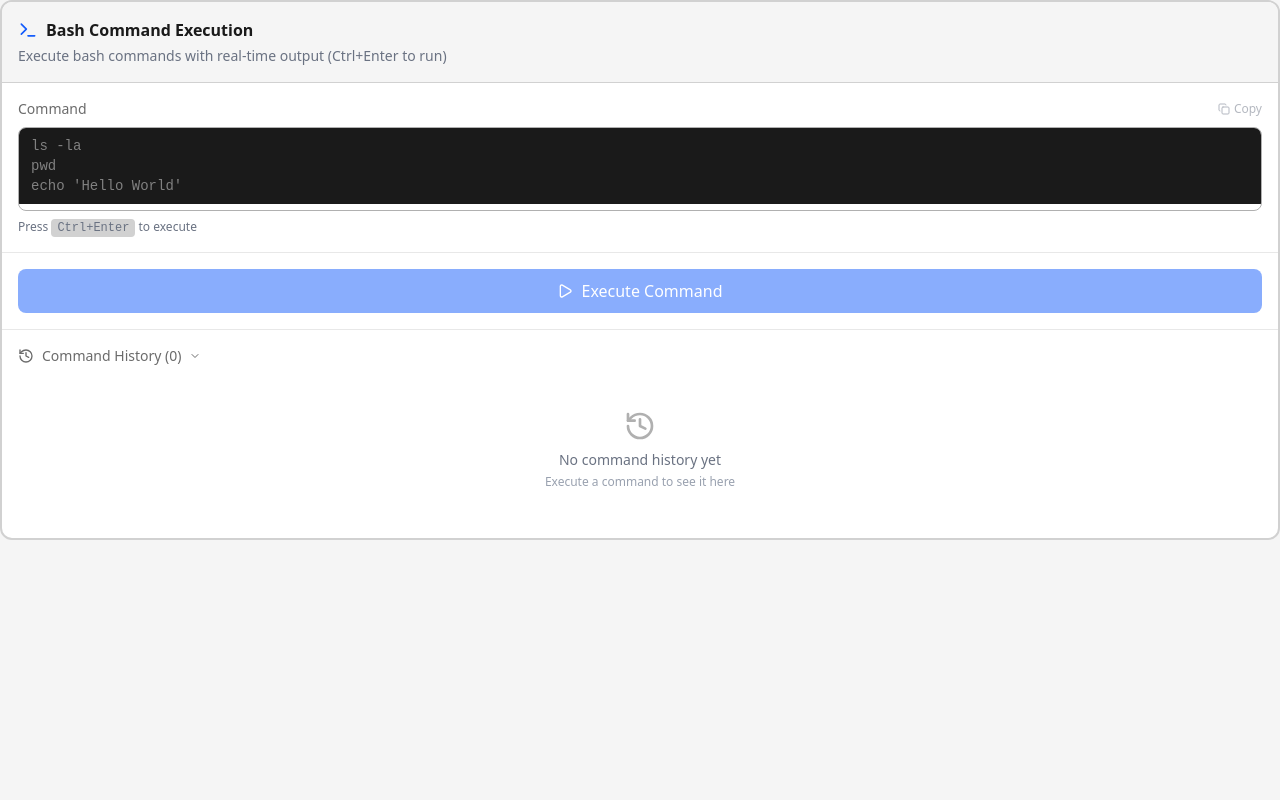
Scenario: BashToolExecutor › Command Execution › should display stdout output
In the text box with test id "bash-command-input": (640,166) [19,128,1261,204], type "echo test"
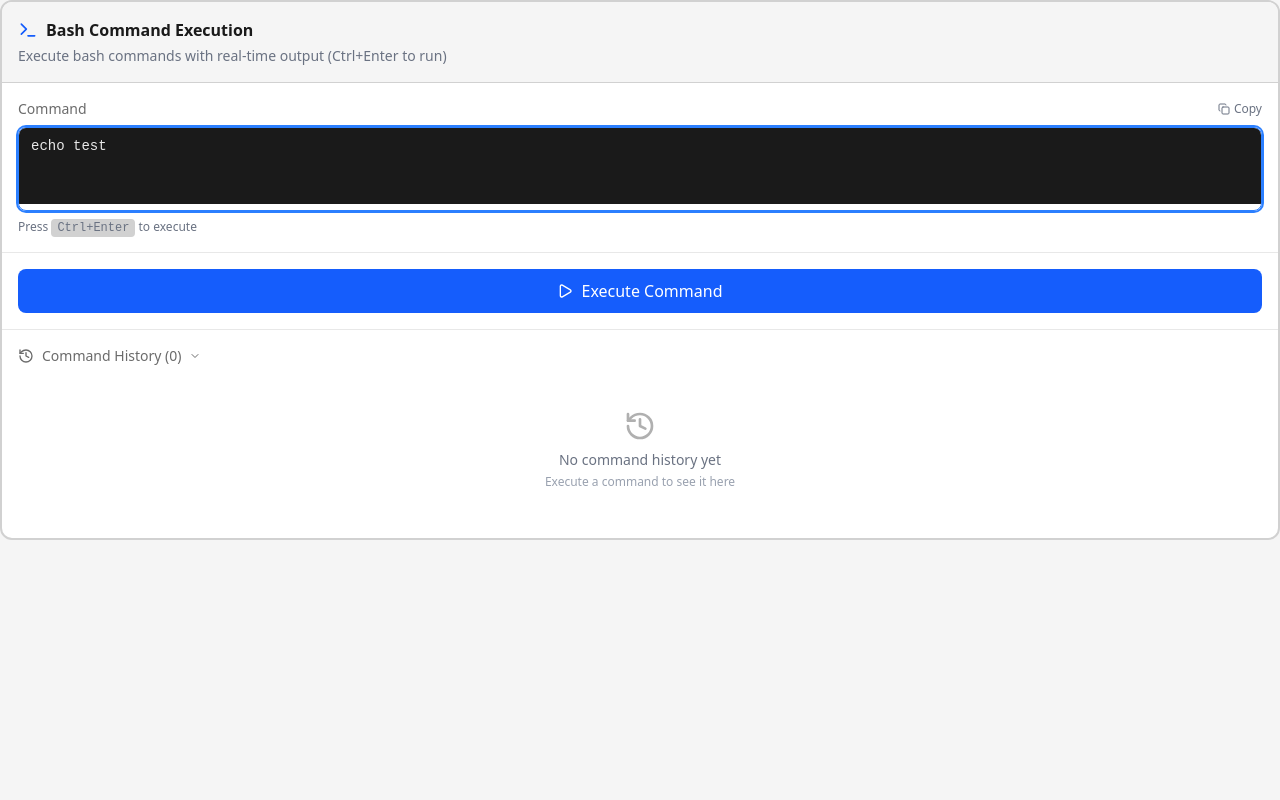
Click the button with test id "execute-bash-button": (640,291) [18,269,1262,313]
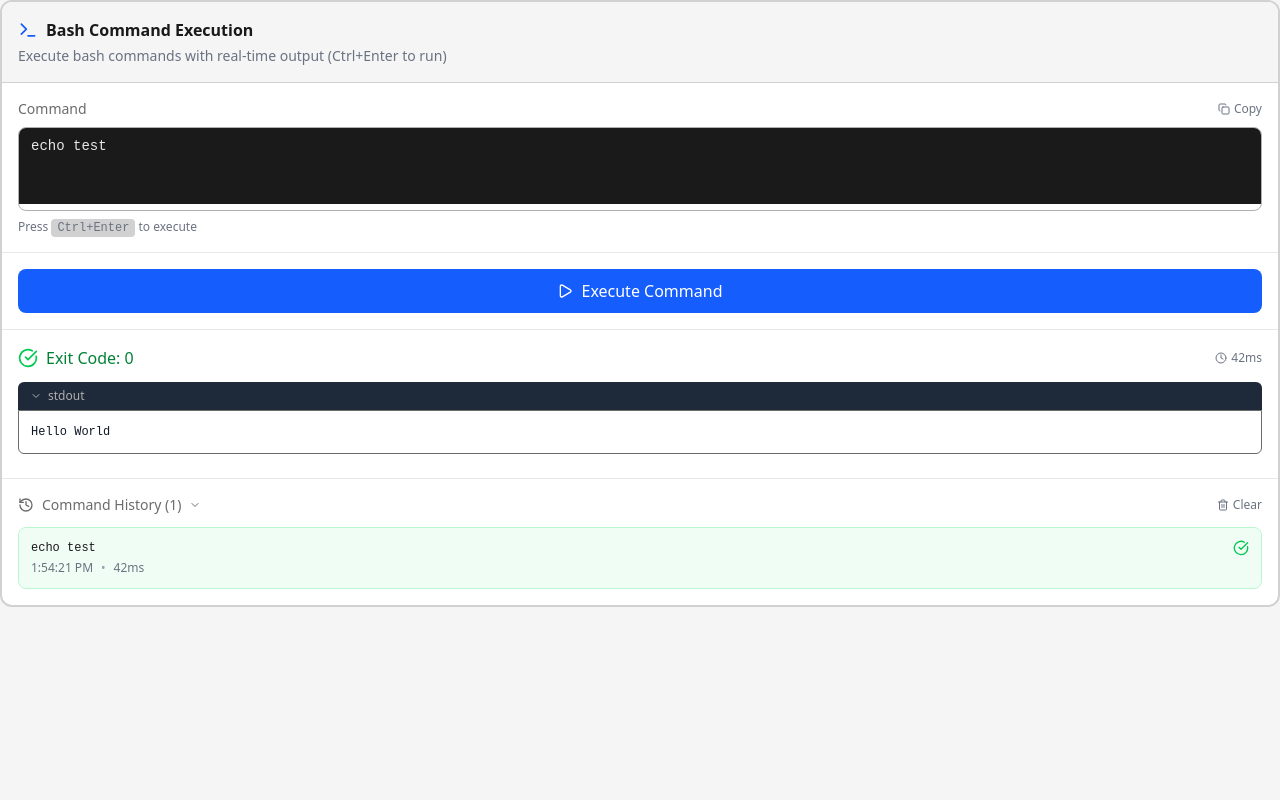
Expected: the text "Hello World" is shown, [31,425,110,439]
